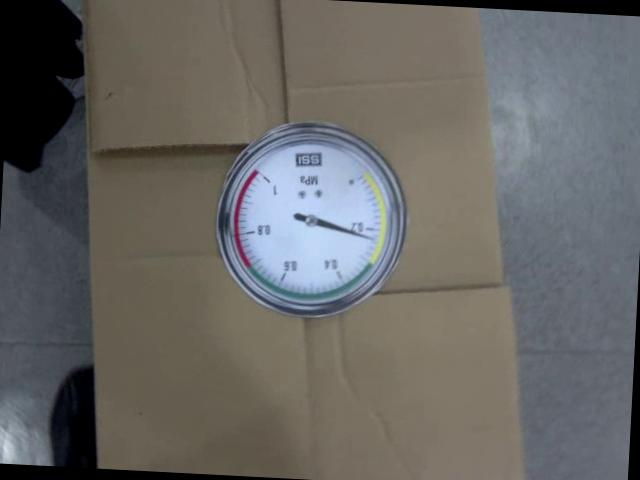Dashboard: (211, 115, 413, 324)
ssi: (293, 150, 324, 168)
